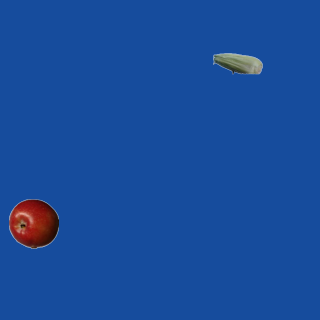Apple Braeburn: (8, 198, 58, 248)
Corn Husk: (212, 38, 262, 88)
